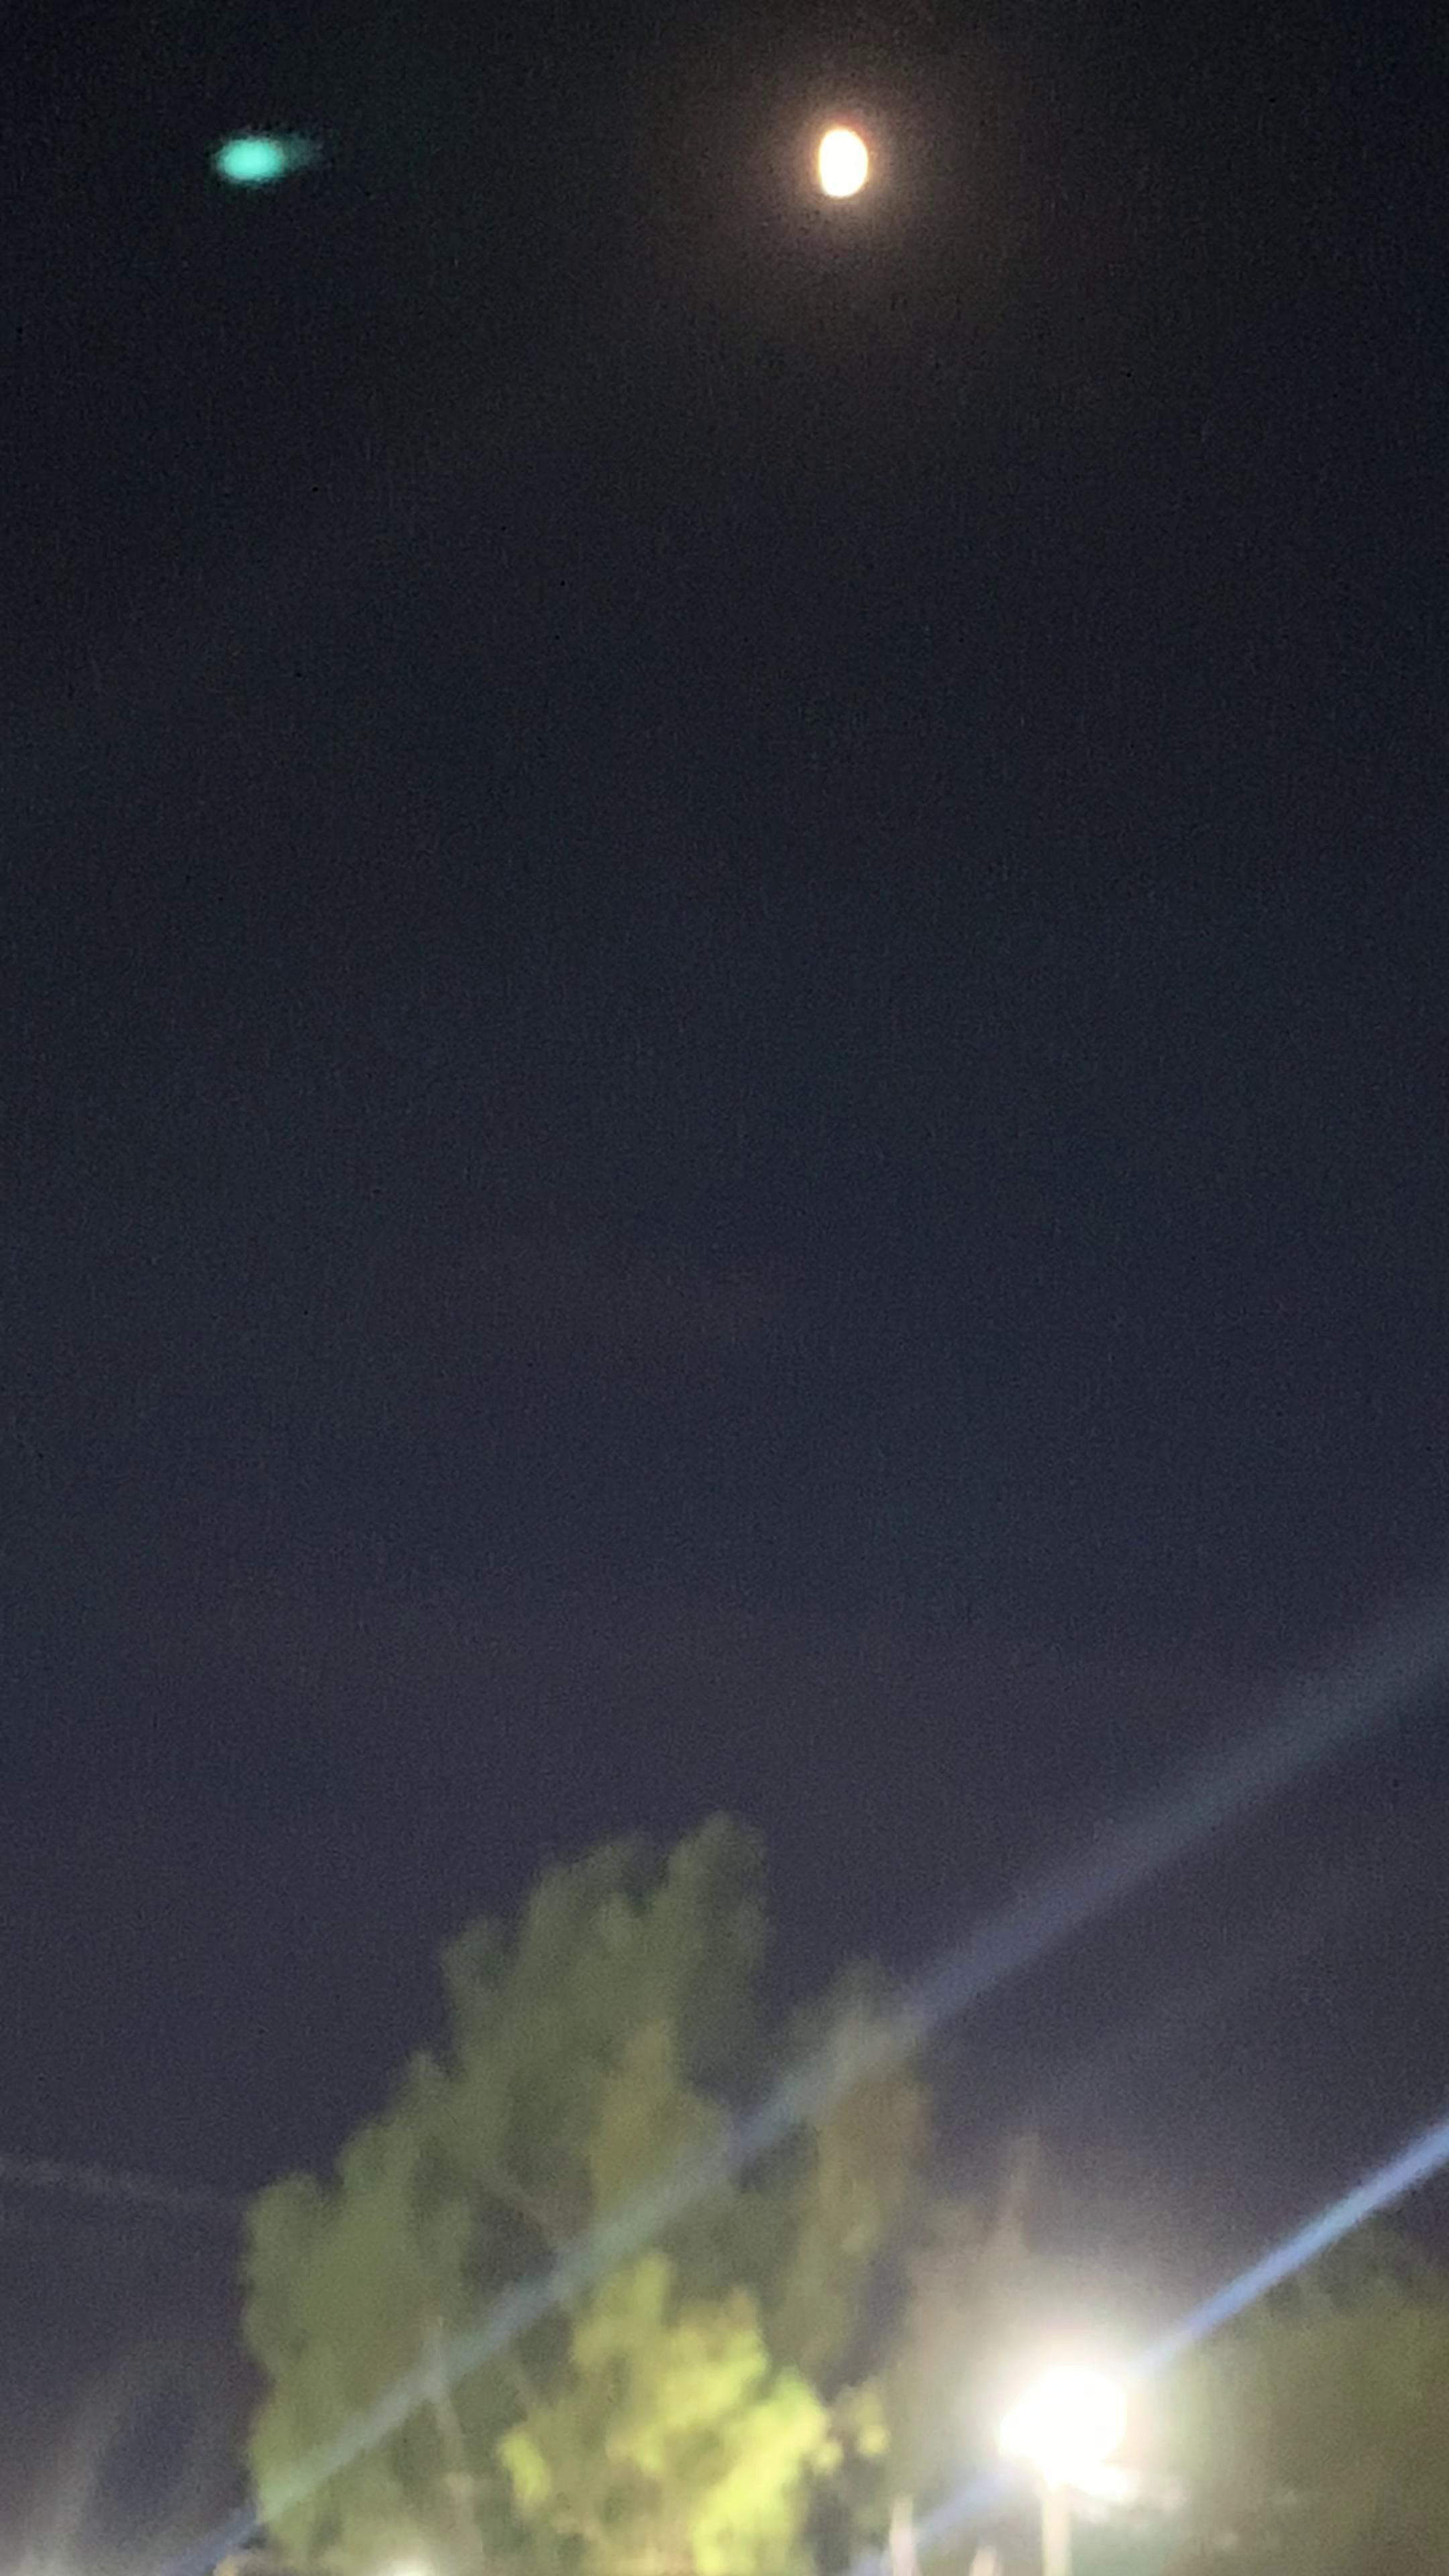moon: (777, 108, 911, 232)
